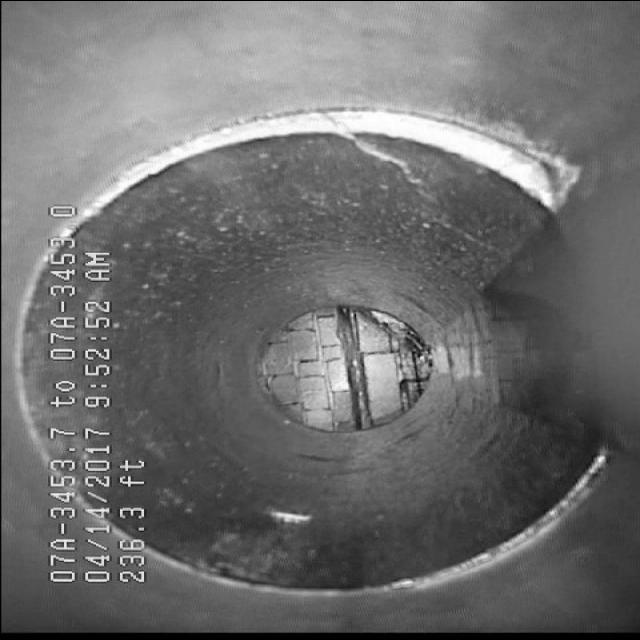Crack: (311, 111, 457, 224)
